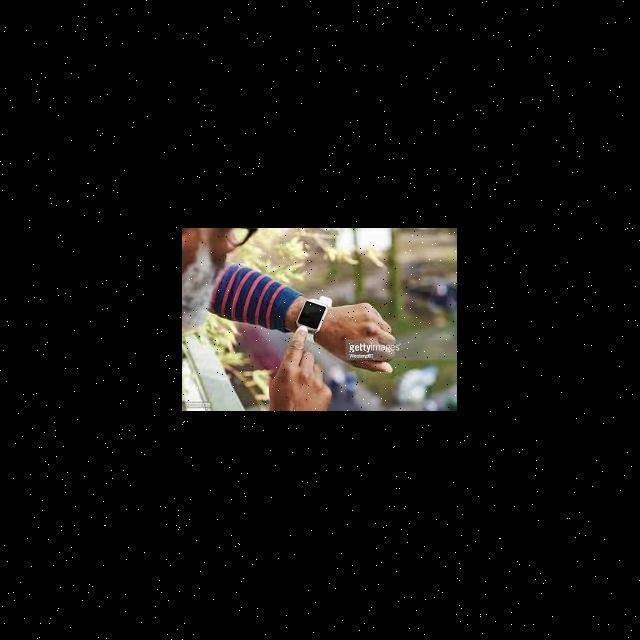watch: (288, 272, 332, 348)
